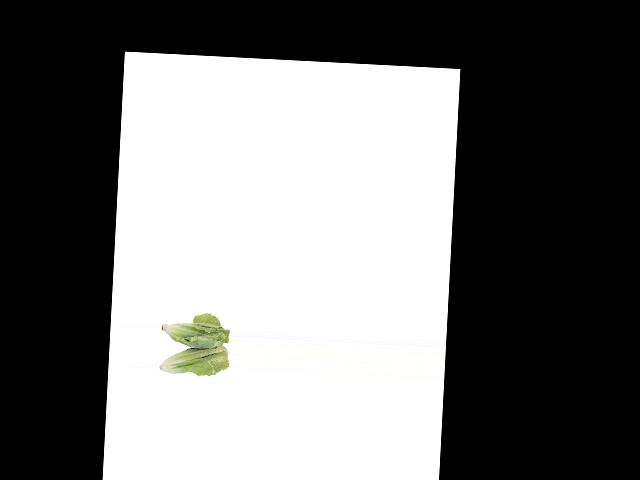lettuce: (158, 317, 231, 380)
